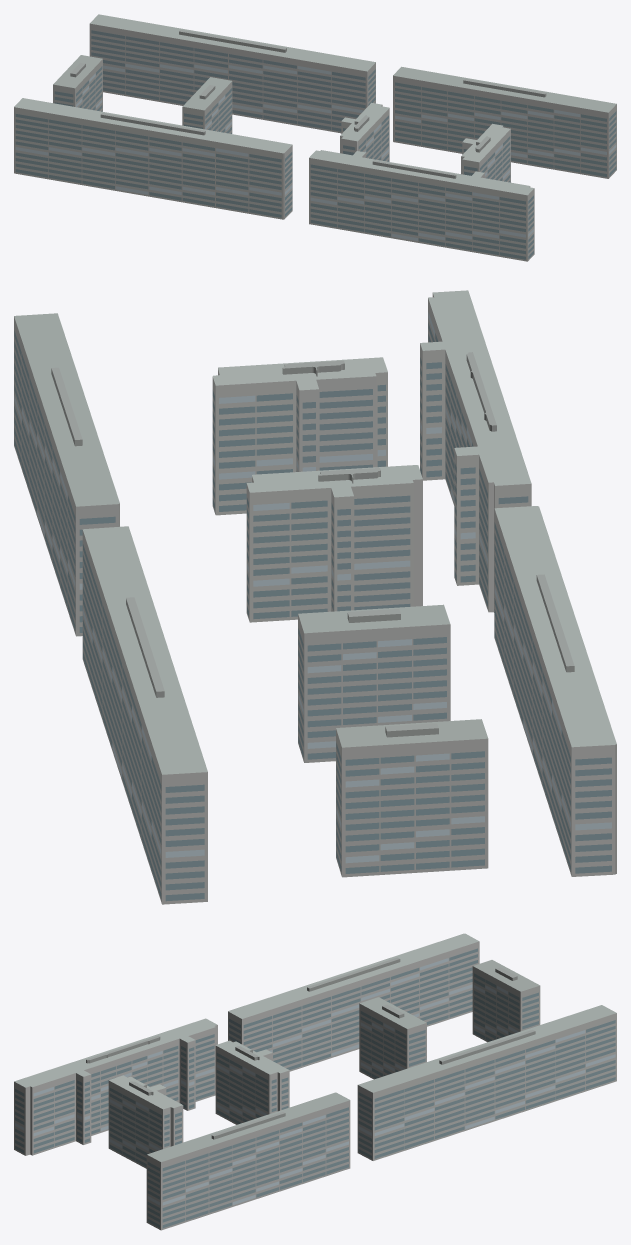
Rendered from apt-a15088918.glb.
The picture shows the model from 3 angles, top to bottom: view 1: azimuth 30°, elevation 25°; view 2: azimuth 150°, elevation 25°; view 3: azimuth 270°, elevation 25°; orthographic projection. The views are drawn at different scales.
Parts seen in each view (by area): view 1: apt-a15088918; view 2: apt-a15088918; view 3: apt-a15088918.
Part boxes in pixels (x1,y1,x2,y2): apt-a15088918: (14, 14, 616, 261); apt-a15088918: (14, 290, 616, 904); apt-a15088918: (14, 933, 616, 1230).
Bounding box in the file's own units: 247 × 36 × 275.
